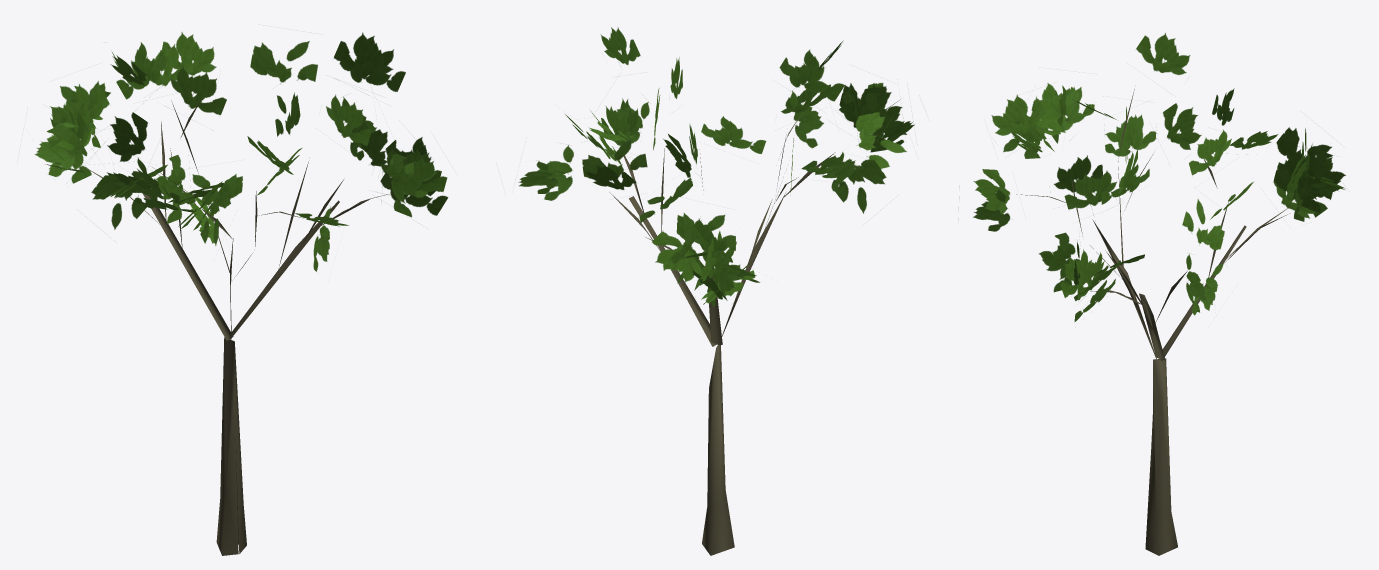
The model's file is beech_lod1.glb.
3 renders of one model, left to right at view 1: azimuth 30°, elevation 25°; view 2: azimuth 150°, elevation 25°; view 3: azimuth 270°, elevation 25°, orthographic. The views are drawn at different scales.
Parts seen in each view (by area): view 1: bark; view 2: bark; view 3: bark.
Boxes of the visible parts, x1,y1,x2,y2 form: bark: (34,32,448,555); bark: (518,27,914,555); bark: (958,33,1345,555).
Bounding box in the file's own units: 8.18 × 11.48 × 8.77.
Materials: 1 (1 with a texture image).
